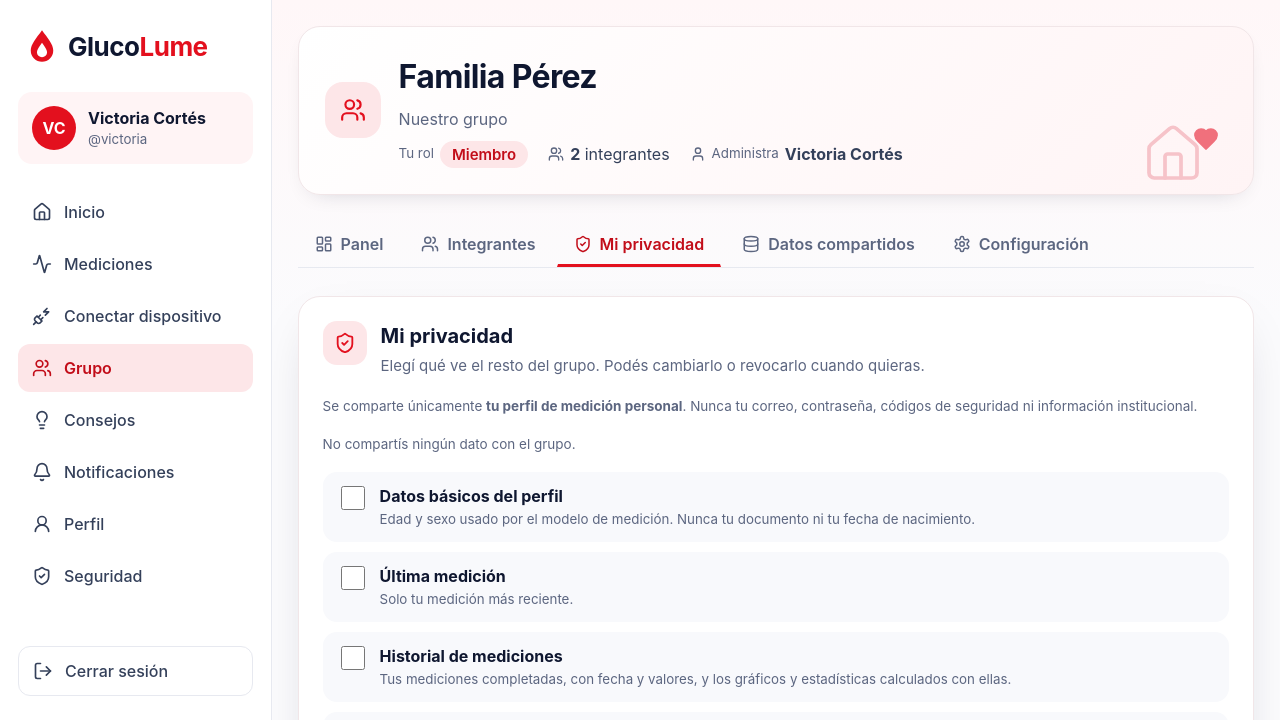
Scenario: Mi privacidad › arranca sin compartir y guarda solo los permisos elegidos
This screenshot has width=1280, height=720.
Expected: the text "No compartís ningún dato con el grupo." is shown, left=323, top=436, right=576, bottom=452
Expected: the 1st checkbox is not checked, left=341, top=486, right=365, bottom=510
Click the checkbox labelled "Última medición Solo tu medición más reciente.": (353, 578) left=341, top=566, right=365, bottom=590
(page scrolled)
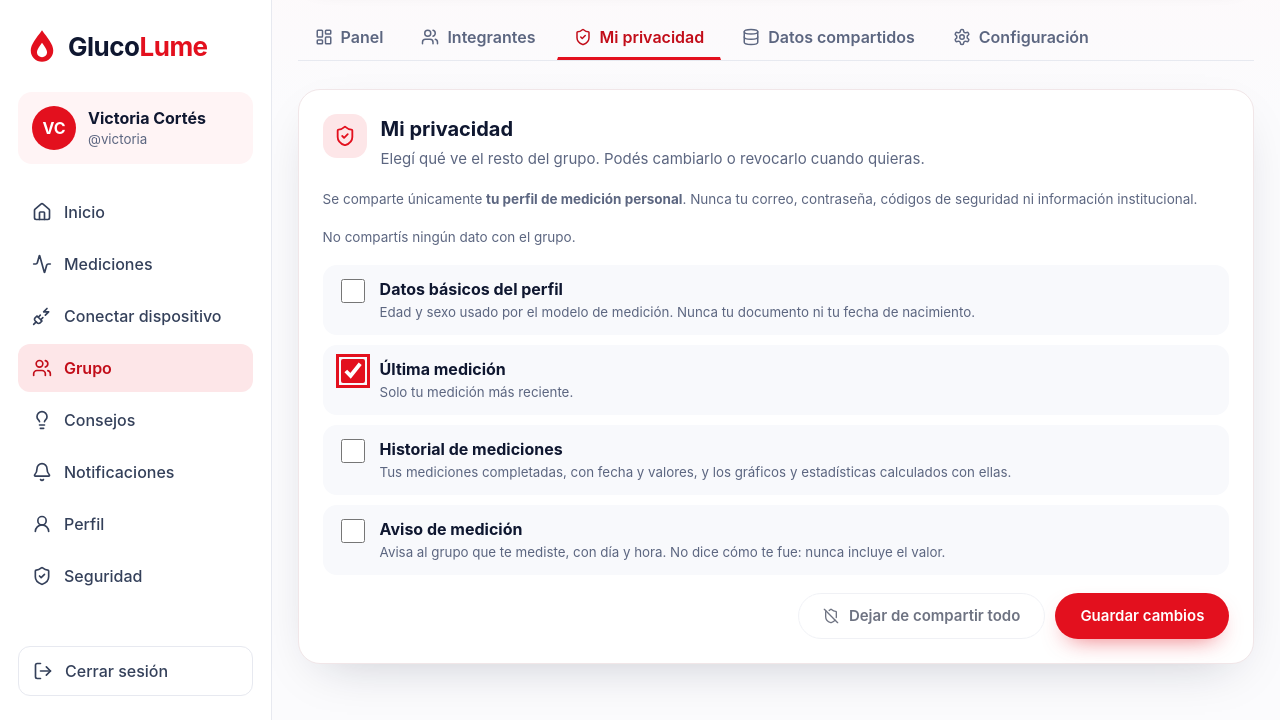
Click the button "Guardar cambios": (1142, 616) left=1055, top=593, right=1229, bottom=639
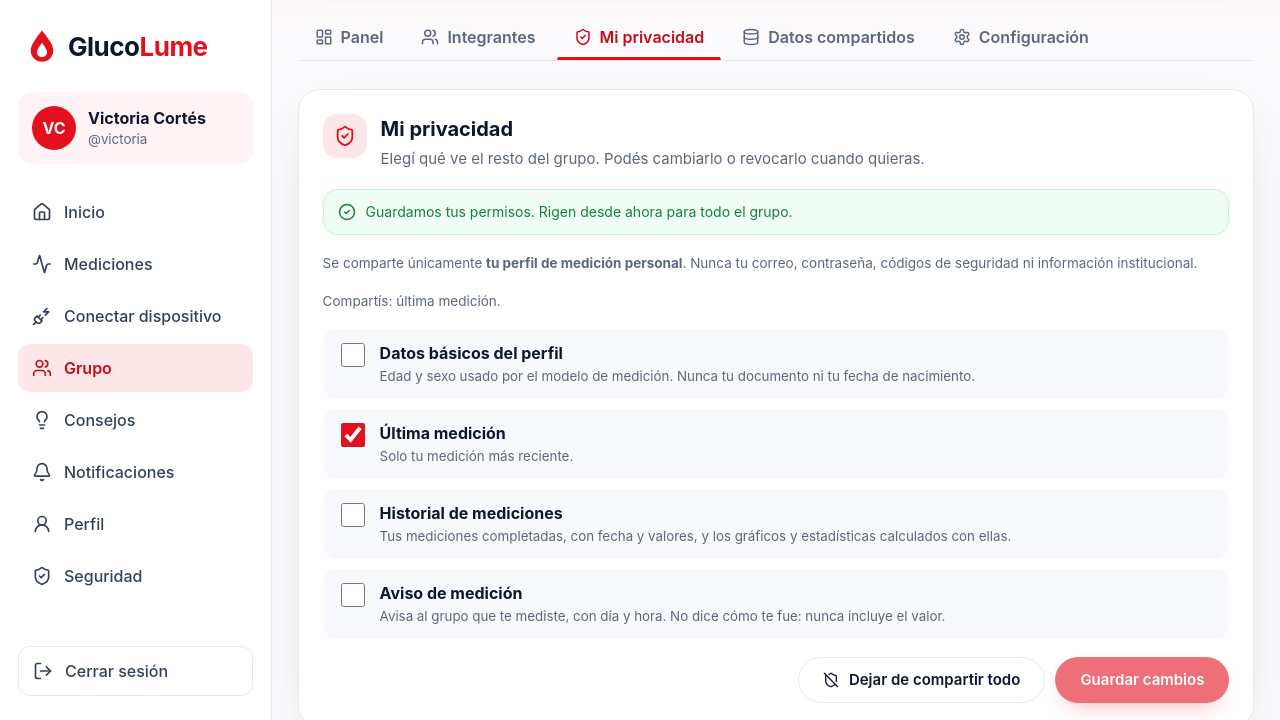
Expected: the checkbox labelled "Aviso de medición" is not checked, left=341, top=583, right=365, bottom=607
Now the text "Guardamos tus permisos" is shown, box left=366, top=203, right=793, bottom=220
Click the button "Dejar de compartir todo": (922, 680) left=798, top=657, right=1045, bottom=703
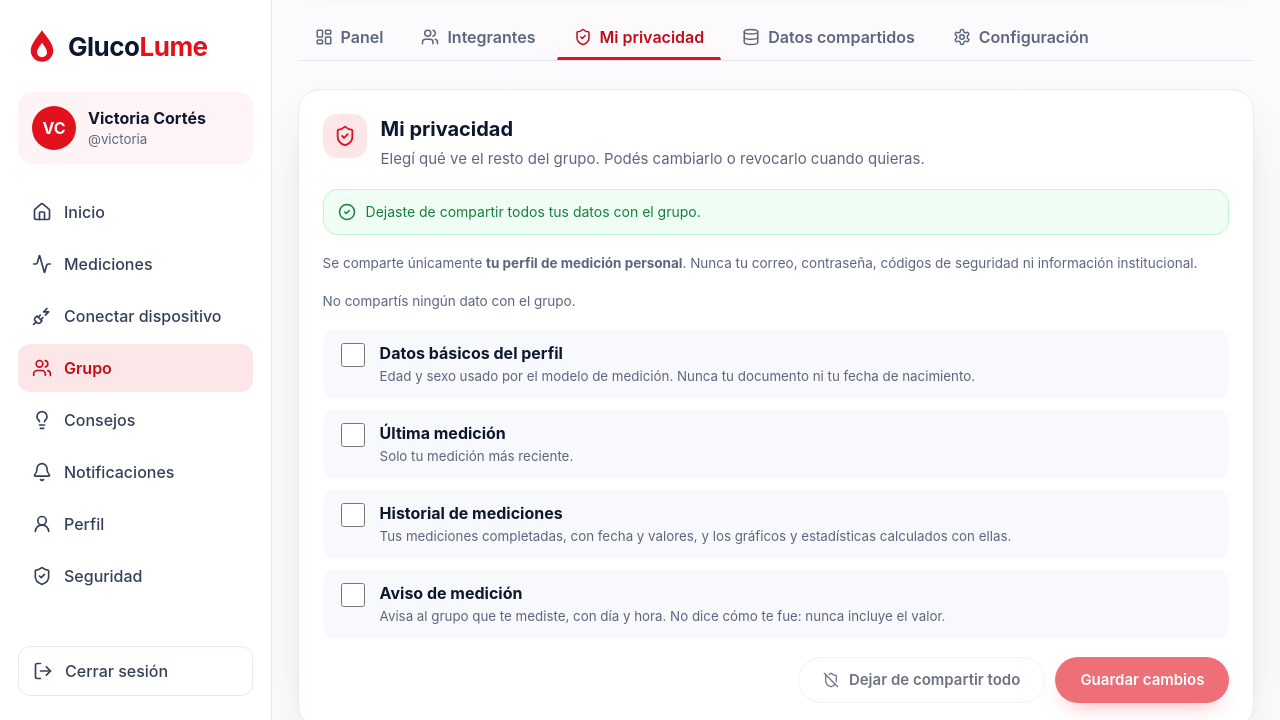
Now the text "Dejaste de compartir todos tus datos con el grupo." is shown, box left=366, top=202, right=701, bottom=222
